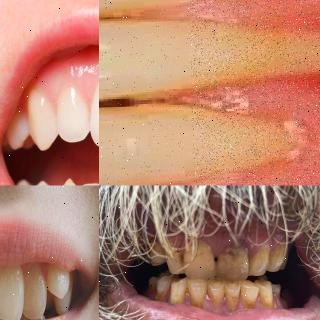Gum Swelling: (194, 0, 320, 186)
cavities: (222, 240, 249, 278)
maligned: (17, 259, 45, 319), (0, 254, 24, 320), (45, 256, 71, 305)
plaque: (186, 241, 218, 265), (254, 244, 270, 266), (154, 292, 162, 304)
stains: (269, 239, 287, 269), (224, 288, 242, 314), (188, 288, 208, 310), (208, 288, 227, 310), (240, 289, 258, 312), (168, 286, 186, 308), (259, 291, 275, 313), (188, 277, 210, 292), (173, 250, 187, 272), (228, 277, 242, 297), (172, 272, 187, 290), (242, 277, 258, 293), (162, 272, 178, 288), (209, 278, 224, 294), (258, 276, 272, 292)
